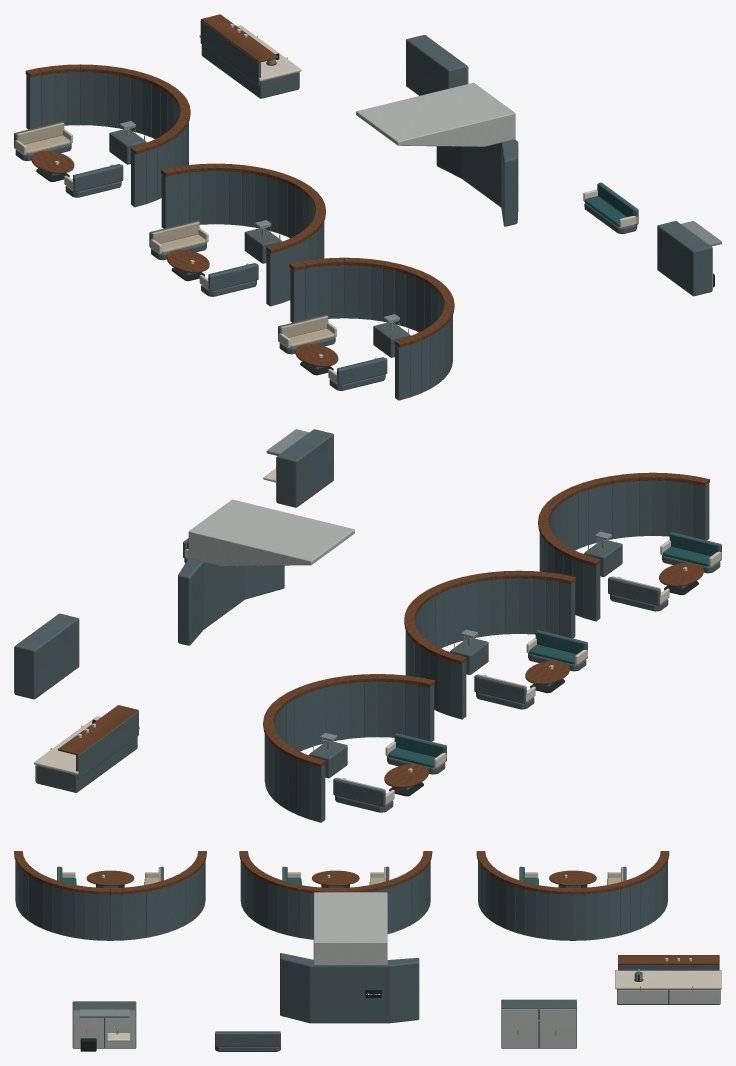
Rendered from D18_directory_05.glb.
3 views of the same model, one above another, from view 1: azimuth 30°, elevation 25°; view 2: azimuth 150°, elevation 25°; view 3: azimuth 270°, elevation 25° (orthographic). The views are drawn at different scales.
Visible parts, largest first — view 1: A_ArrivalPrivacyReturn, A_ArrivalPrivacyBlade, A_RespiteCare_carcass, A_PersonalHooks_carcass, A_RefreshmentBack, A_RefreshmentJoinery_carcass, A_RefreshmentShelf, A_Conversation1Wall_0, A_Conversation0SeatAft_backframe, A_Conversation1SeatAft_backframe, A_Conversation2SeatAft_backframe, A_Conversation1Wall_23 (+31 smaller); view 2: A_ArrivalPrivacyReturn, A_ArrivalPrivacyBlade, A_PersonalHooks_carcass, A_RespiteCare_carcass, A_RefreshmentBack, A_RefreshmentJoinery_carcass, A_RefreshmentShelf, A_Conversation0Wall_0, A_Conversation2Wall_0, A_Conversation1Wall_0, A_Conversation0SeatFore_backframe, A_Conversation1SeatFore_backframe (+38 smaller); view 3: A_ArrivalPrivacyBlade, A_ArrivalPrivacyReturn, A_RefreshmentWorktop, A_PersonalHooks_door0, A_PersonalHooks_door1, A_RefreshmentShelf, A_PersonalHooks_carcass, A_ArrivalPause_backframe, A_RespiteCare_door1, A_RespiteCare_carcass, A_RespiteCare_door0, A_RefreshmentJoinery_door0 (+48 smaller).
Part boxes in pixels (x1,y1,x2,y2): A_ArrivalPrivacyReturn: [356, 82, 515, 146]; A_ArrivalPrivacyBlade: [436, 139, 518, 226]; A_RespiteCare_carcass: [657, 221, 712, 296]; A_PersonalHooks_carcass: [406, 35, 467, 95]; A_RefreshmentBack: [200, 20, 260, 85]; A_RefreshmentJoinery_carcass: [201, 44, 299, 98]; A_RefreshmentShelf: [201, 14, 278, 62]; A_Conversation1Wall_0: [161, 174, 177, 228]; A_Conversation0SeatAft_backframe: [73, 164, 123, 192]; A_Conversation1SeatAft_backframe: [208, 263, 258, 291]; A_Conversation2SeatAft_backframe: [337, 358, 387, 385]; A_Conversation1Wall_23: [266, 250, 281, 306]; A_ArrivalPrivacyReturn: [188, 499, 354, 566]; A_ArrivalPrivacyBlade: [178, 558, 284, 645]; A_PersonalHooks_carcass: [14, 613, 79, 699]; A_RespiteCare_carcass: [276, 429, 333, 507]; A_RefreshmentBack: [76, 711, 138, 779]; A_RefreshmentJoinery_carcass: [36, 736, 137, 792]; A_RefreshmentShelf: [58, 705, 138, 755]; A_Conversation0Wall_0: [309, 764, 325, 822]; A_Conversation2Wall_0: [584, 563, 600, 621]; A_Conversation1Wall_0: [450, 661, 466, 719]; A_Conversation0SeatFore_backframe: [333, 778, 385, 806]; A_Conversation1SeatFore_backframe: [474, 675, 526, 703]; A_ArrivalPrivacyBlade: [280, 953, 419, 1023]; A_ArrivalPrivacyReturn: [313, 892, 387, 965]; A_RefreshmentWorktop: [615, 969, 721, 989]; A_PersonalHooks_door0: [539, 1009, 576, 1047]; A_PersonalHooks_door1: [501, 1009, 538, 1047]; A_RefreshmentShelf: [618, 955, 719, 964]; A_PersonalHooks_carcass: [501, 999, 576, 1048]; A_ArrivalPause_backframe: [215, 1032, 280, 1046]; A_RespiteCare_door1: [73, 1010, 103, 1047]; A_RespiteCare_carcass: [72, 1001, 136, 1048]; A_RespiteCare_door0: [105, 1010, 135, 1047]; A_RefreshmentJoinery_door0: [669, 990, 719, 1004].
Bounding box in the file's own units: 20.68 × 4.5 × 35.51.
10 materials, 10 textured.
